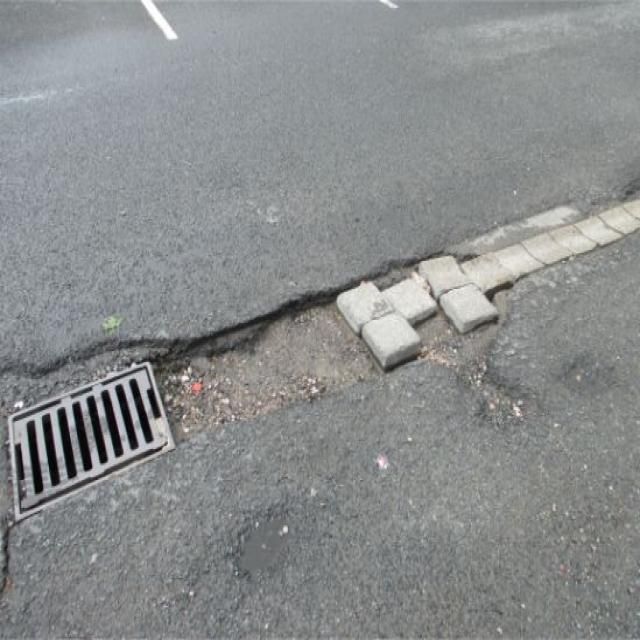pothole: (147, 244, 542, 435)
